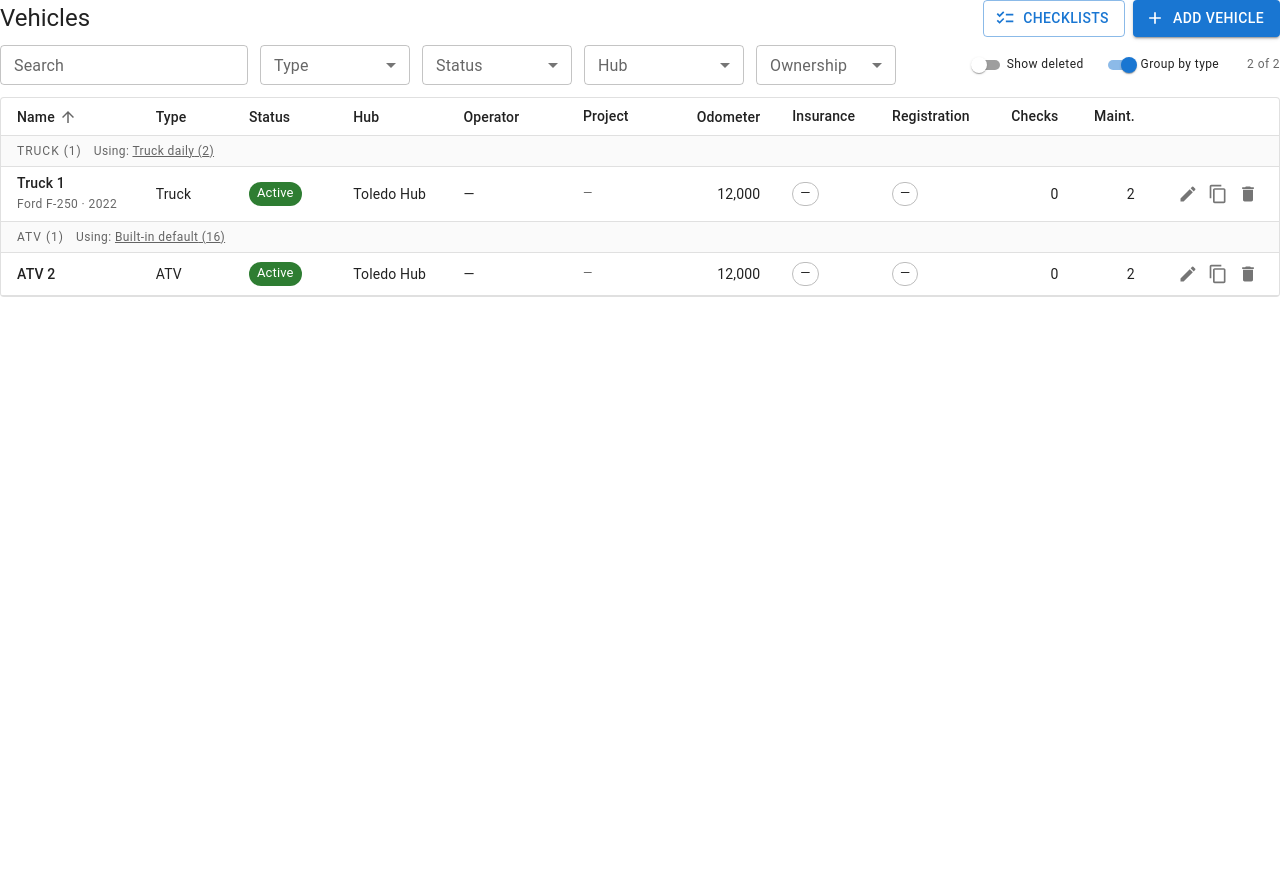
Test: UXP-6 (6b): the drawer and the form never overlap (one armed Back guard) › Edit from the drawer closes the drawer first and brings it back on Cancel
Click the text "Truck 1" at x=41, y=183, box [17,173,65,193]
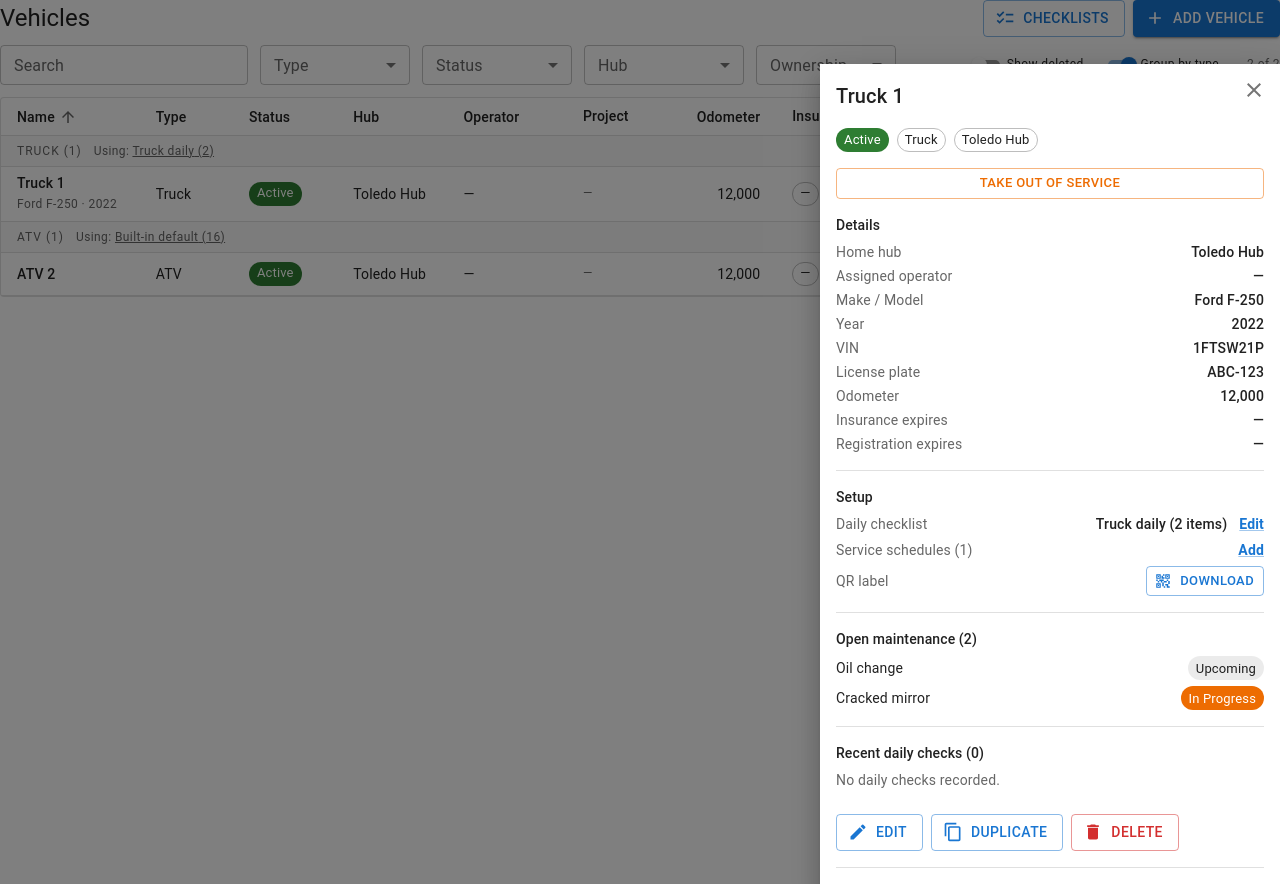
expect the heading "Truck 1" is shown: met, box [836,84,904,108]
Click the button "Edit" at x=879, y=832, box [836,814,923,851]
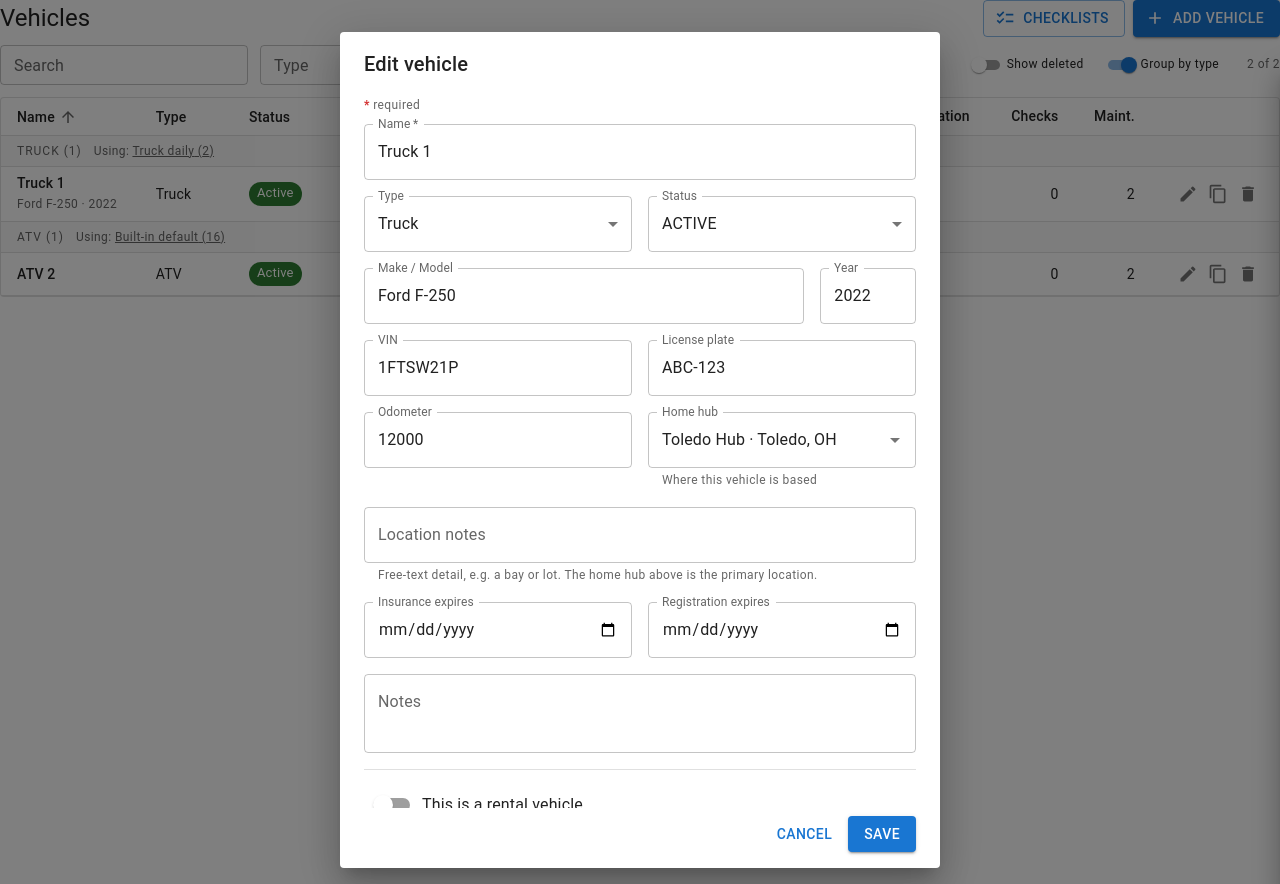
expect the heading "Edit vehicle" is shown: met, box [364,52,468,76]
Click the button "Cancel" at x=804, y=834, box [769,816,840,852]
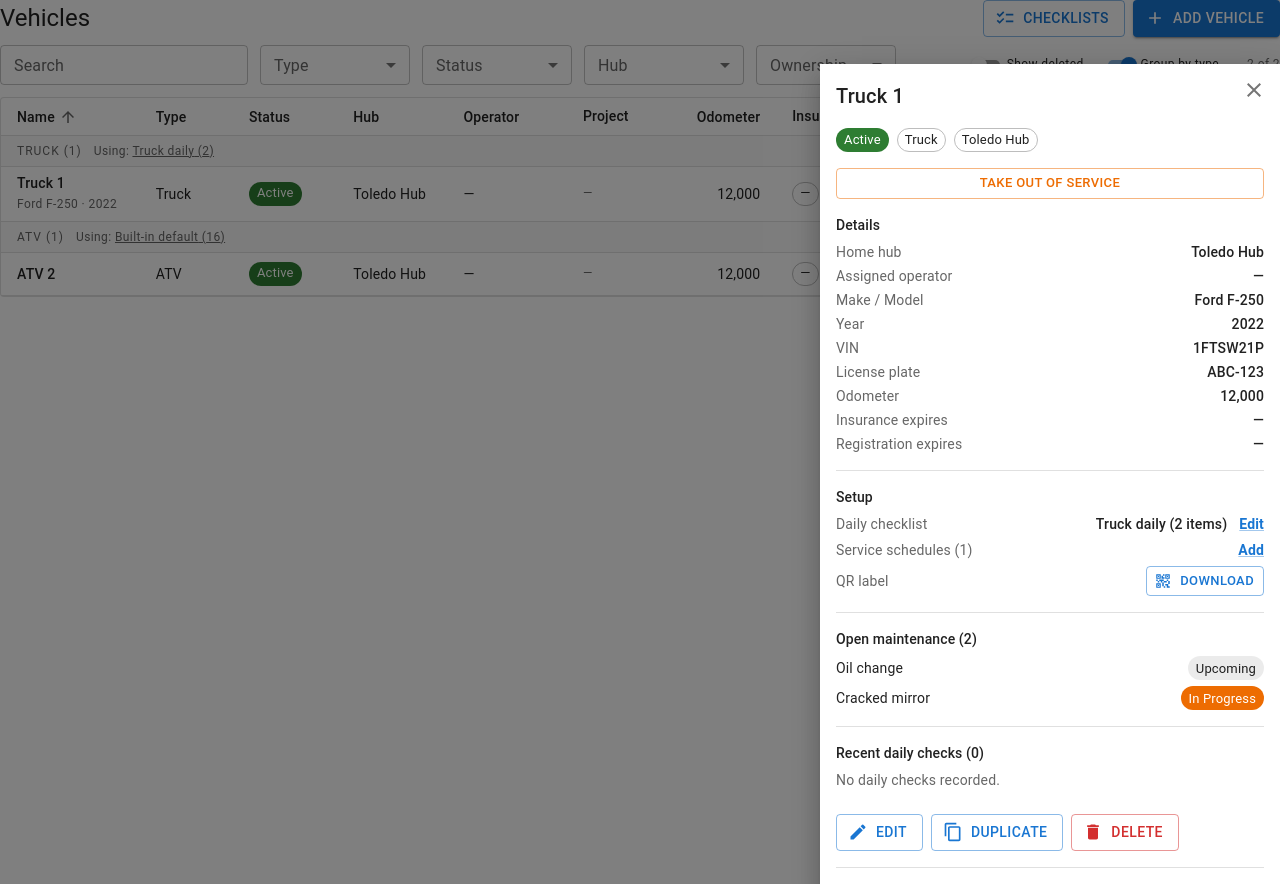
expect the heading "Truck 1" is shown: met, box [836,84,904,108]
